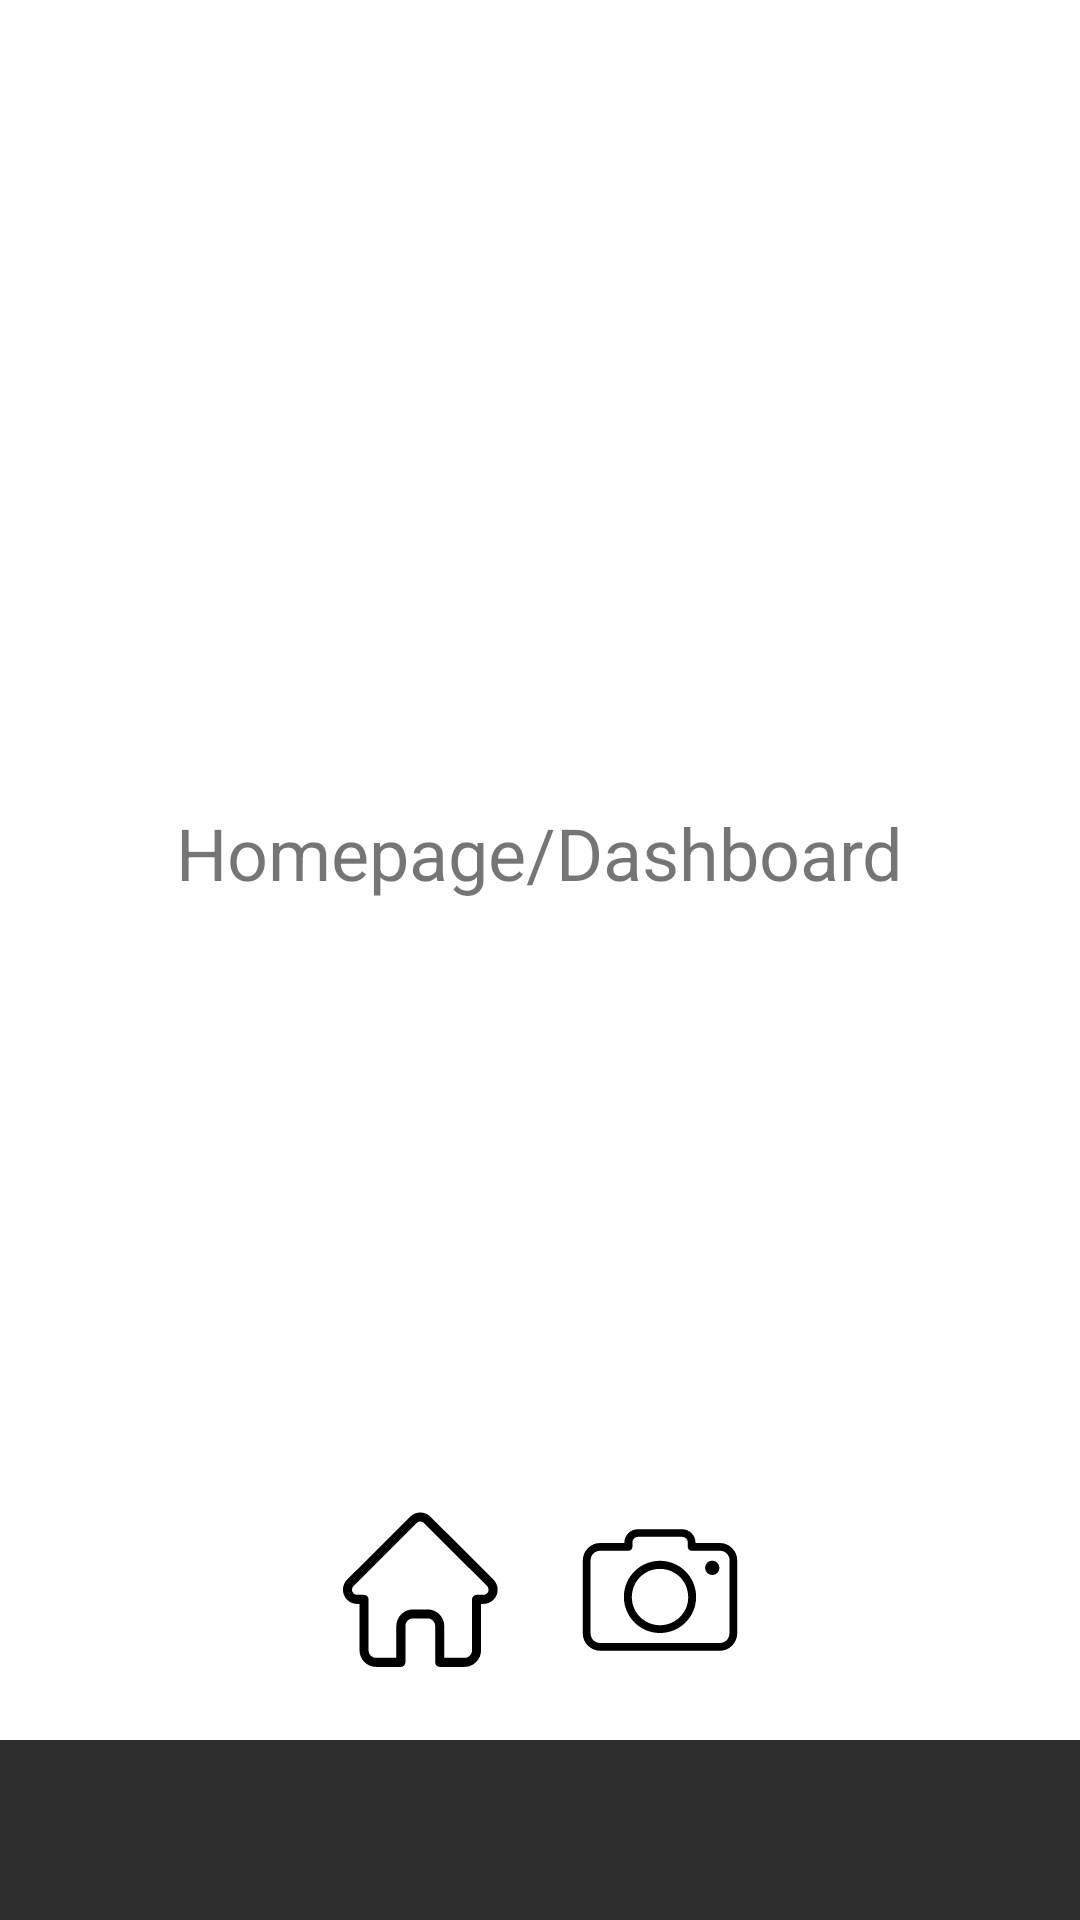

Icons on this 1080x1920 Android screen, each with its box as (x1,y1,x2,y2):
Go to Camera Scanner: (582,1529,738,1651)
Go to Home: (343,1512,498,1667)
